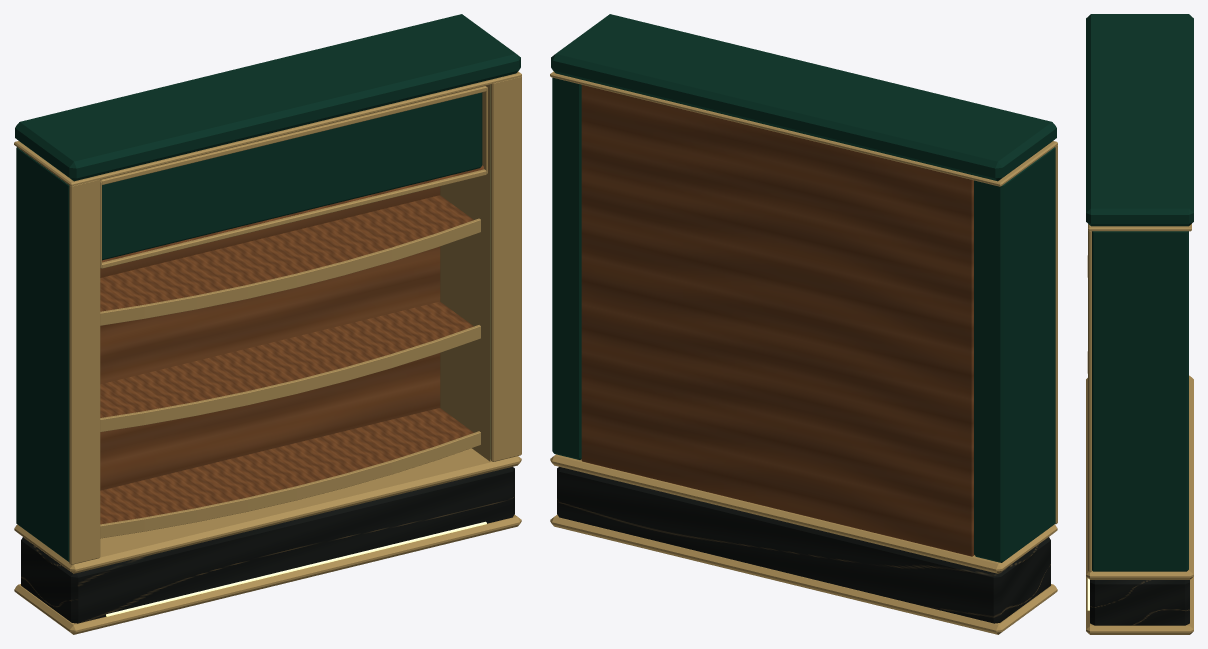
3 views of the same model, side by side, from view 1: azimuth 30°, elevation 25°; view 2: azimuth 150°, elevation 25°; view 3: azimuth 270°, elevation 25° (orthographic). The views are drawn at different scales.
Visible parts, largest first — view 1: cabinet_back, cabinet_crown, brand_header_panel, cabinet_stone_base, cabinet_left_pillar, shelf_3, shelf_1, shelf_2, trim_left_front, trim_right_front, trim_right_inner, trim_base_top (+9 smaller); view 2: cabinet_back, cabinet_crown, cabinet_left_pillar, cabinet_stone_base, cabinet_right_pillar, trim_base_top, trim_base_plinth, trim_crown_lip, trim_left_front; view 3: cabinet_right_pillar, cabinet_crown, cabinet_stone_base, trim_base_top, trim_base_plinth, trim_right_front, trim_crown_lip.
Part boxes in pixels (<box>): cabinet_back: <box>100,186,440,490</box>; cabinet_crown: <box>15,14,520,181</box>; brand_header_panel: <box>102,92,482,260</box>; cabinet_stone_base: <box>21,467,514,623</box>; cabinet_left_pillar: <box>16,147,69,561</box>; shelf_3: <box>100,195,473,311</box>; shelf_1: <box>100,408,473,524</box>; shelf_2: <box>100,301,473,417</box>; trim_left_front: <box>69,179,100,564</box>; trim_right_front: <box>491,76,521,461</box>; trim_right_inner: <box>440,84,490,461</box>; trim_base_top: <box>14,448,521,573</box>; cabinet_back: <box>581,85,974,556</box>; cabinet_crown: <box>551,14,1056,181</box>; cabinet_left_pillar: <box>974,147,1055,562</box>; cabinet_stone_base: <box>557,467,1050,623</box>; cabinet_right_pillar: <box>552,77,581,459</box>; trim_base_top: <box>550,454,1057,573</box>; trim_base_plinth: <box>550,514,1057,634</box>; trim_crown_lip: <box>550,71,1057,186</box>; trim_left_front: <box>1055,145,1057,524</box>; cabinet_right_pillar: <box>1092,231,1188,571</box>; cabinet_crown: <box>1086,14,1193,226</box>; cabinet_stone_base: <box>1090,580,1189,625</box>; trim_base_top: <box>1086,375,1193,579</box>; trim_base_plinth: <box>1086,576,1193,634</box>; trim_right_front: <box>1088,230,1091,572</box>; trim_crown_lip: <box>1088,224,1191,231</box>.
Bounding box in the file's own units: 2.4 × 2.4 × 0.55.
5 materials, 2 textured.
